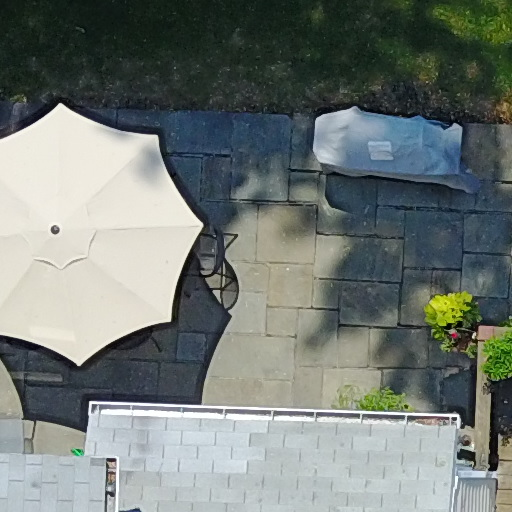umbrella: (1, 100, 232, 378)
